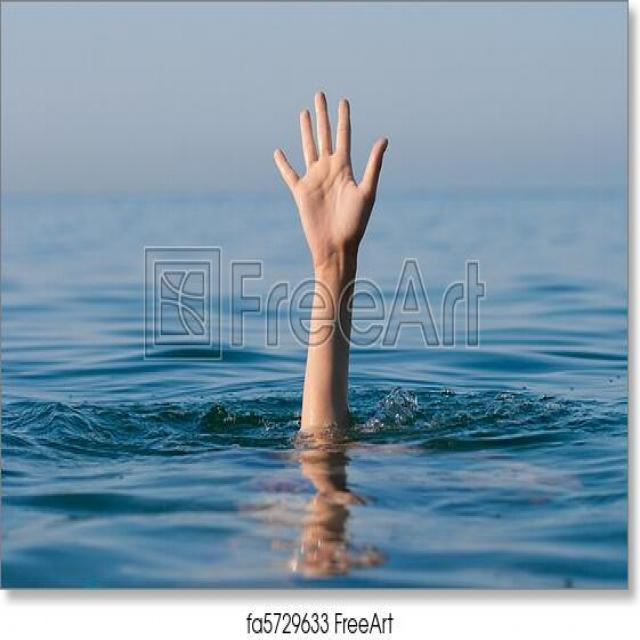Out of Water: (265, 84, 379, 522)
